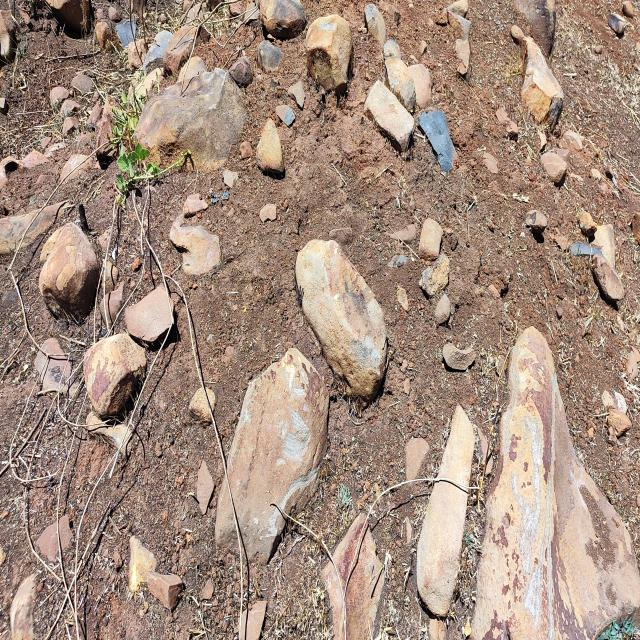rock: (471, 311, 639, 639), (212, 342, 330, 564), (295, 241, 390, 412), (131, 64, 248, 174), (414, 401, 473, 619), (511, 26, 567, 134), (73, 336, 146, 416), (34, 226, 98, 314), (305, 16, 356, 103), (363, 80, 414, 154), (145, 568, 182, 619)
